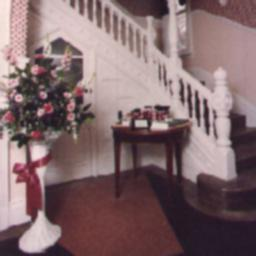Escaleras: (163, 61, 255, 174), (59, 0, 158, 83)
Matera: (6, 60, 79, 253)
